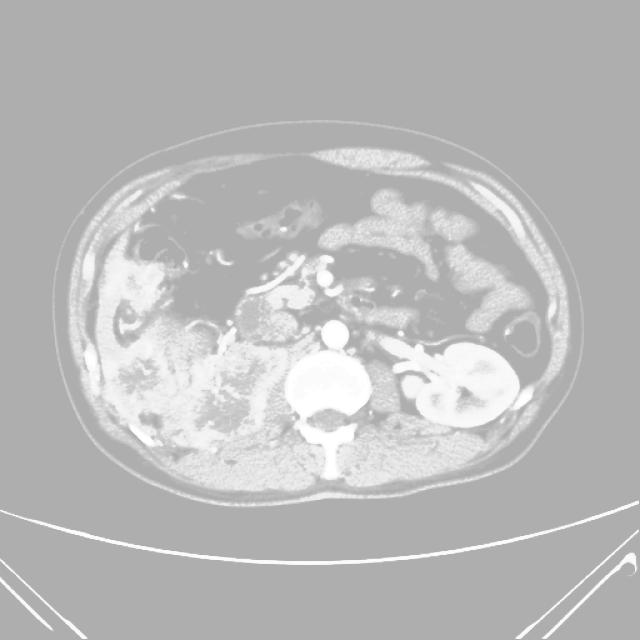TUMOR: (78, 202, 534, 383)
